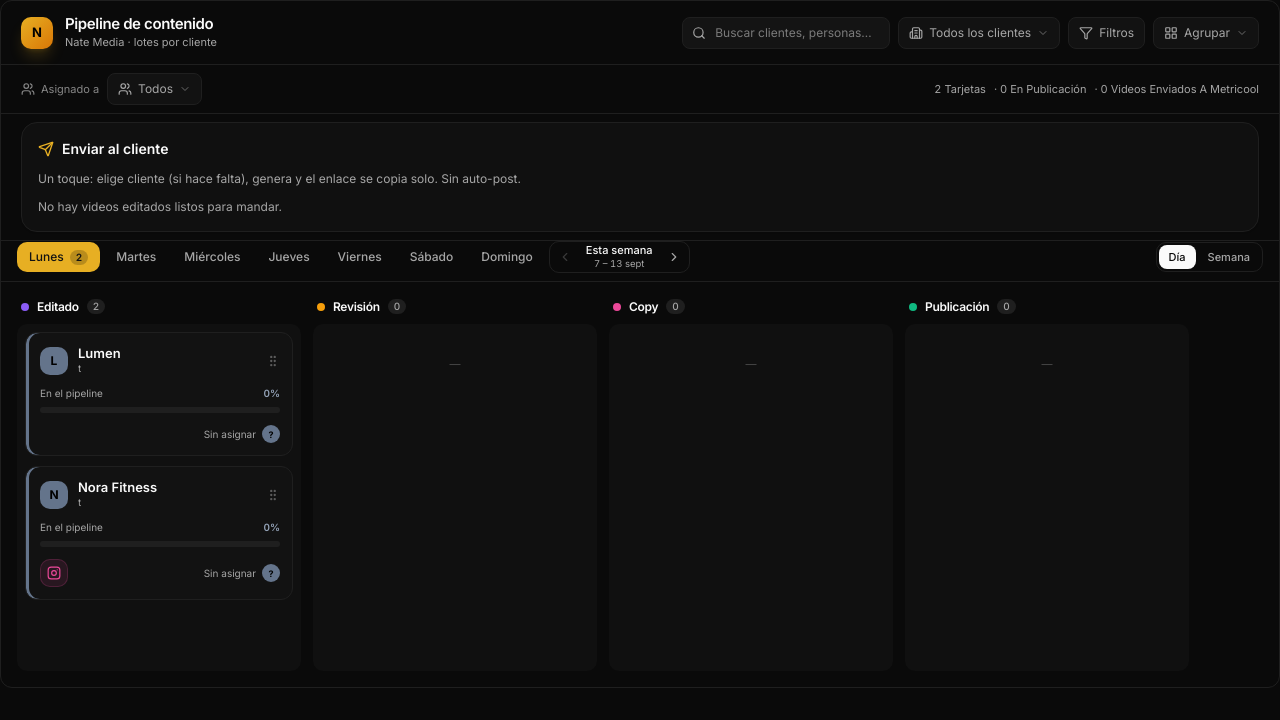
it: EntregasBoard — client dropdown filter (replaces chip row) › opens the list with every client + count and filters the board on select
The image size is (1280, 720).
What coordinates should you click on to do the following:
click the button "Todos los clientes"
I would click on:
 (979, 33)
Its box is x1=898 y1=17 x2=1060 y2=49.
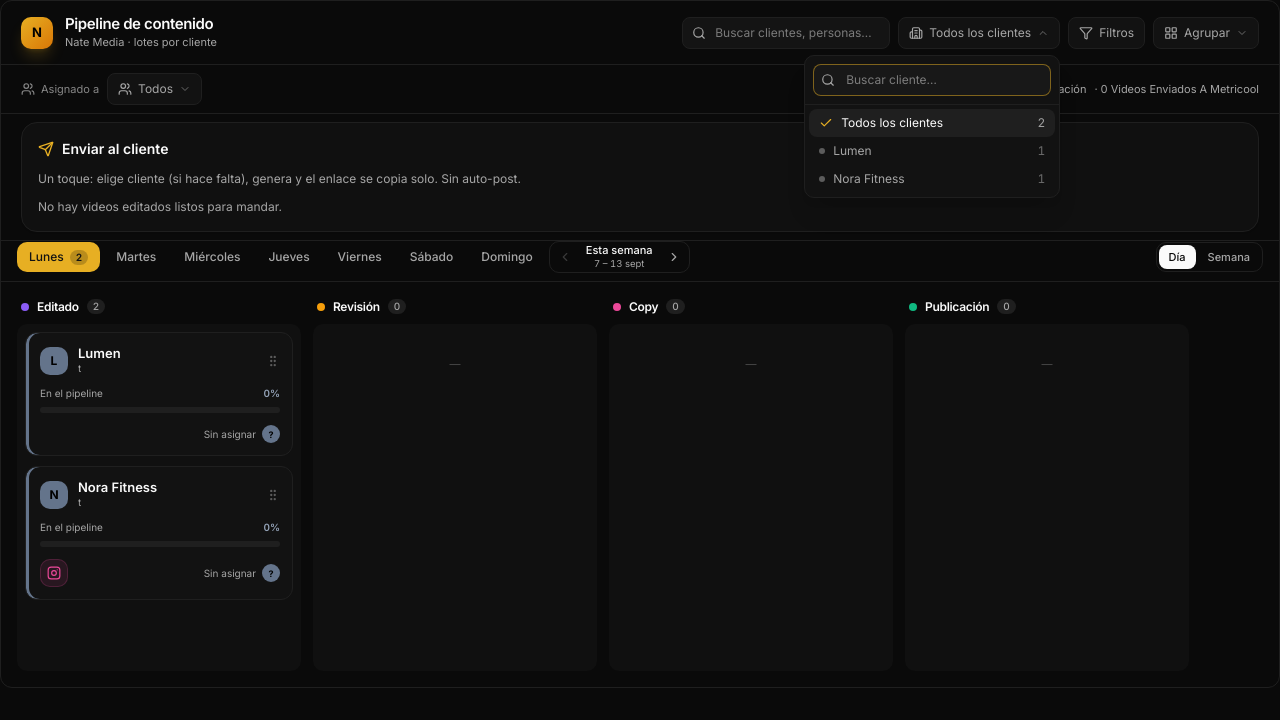
Now the list is shown, box x1=805 y1=105 x2=1059 y2=197
Now the option "Lumen 1" is shown
What coordinates should you click on to do the following:
click the option "Lumen 1"
I would click on:
 (932, 151)
Its box is x1=809 y1=137 x2=1055 y2=165.
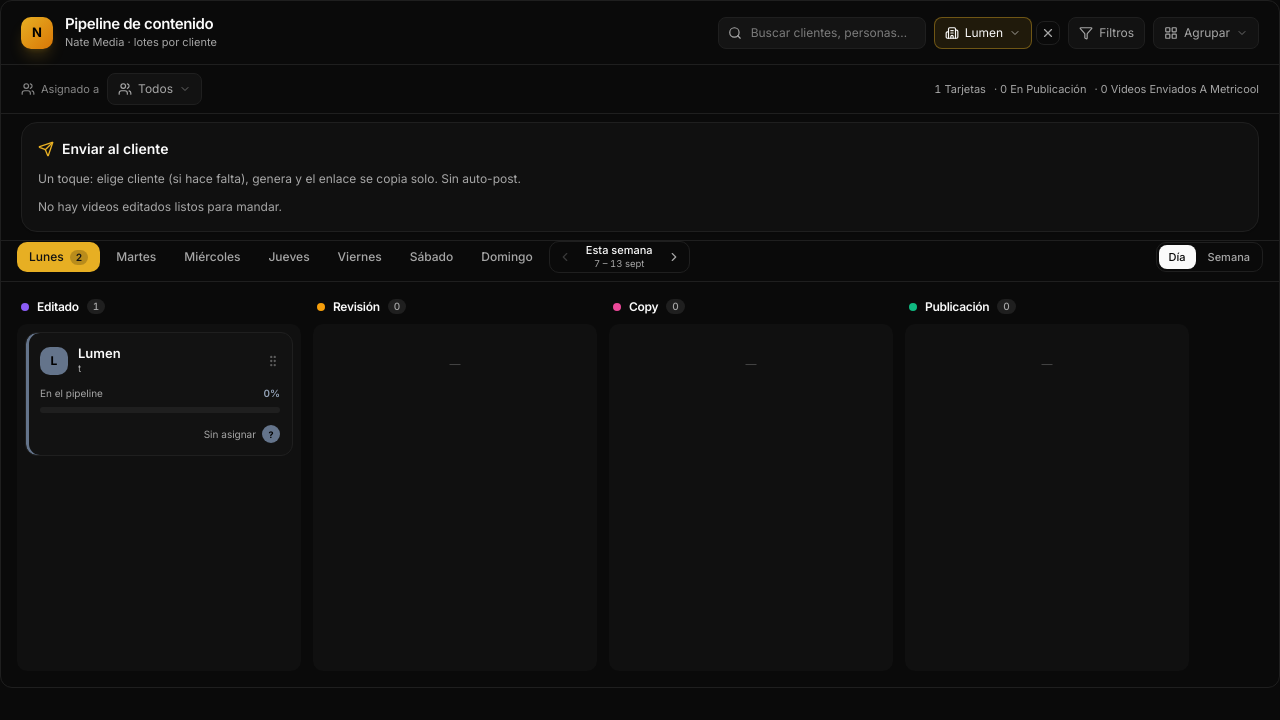
Now the button "Lumen" is shown, box x1=934 y1=17 x2=1032 y2=49
Now the list is gone
